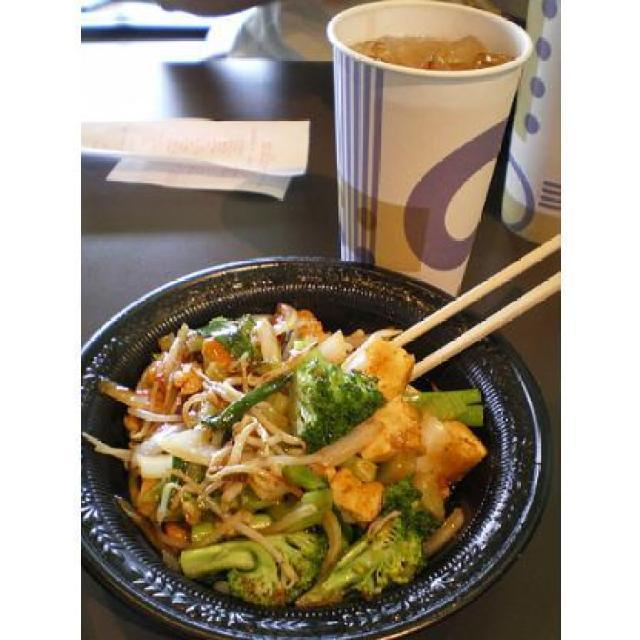Broccoli: (292, 507, 426, 604), (180, 528, 322, 604), (293, 348, 384, 452), (376, 478, 442, 534), (206, 313, 259, 352)
